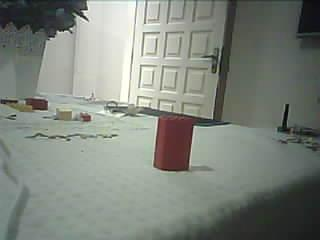lego: (151, 113, 193, 171), (24, 98, 50, 110), (55, 108, 74, 121), (10, 103, 33, 112), (1, 97, 18, 107), (79, 111, 92, 122)
